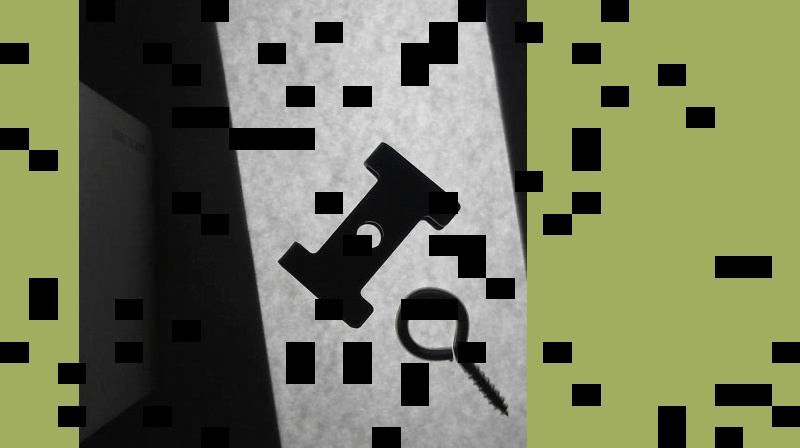O001: (394, 283, 509, 421)
O002: (274, 131, 461, 328)
